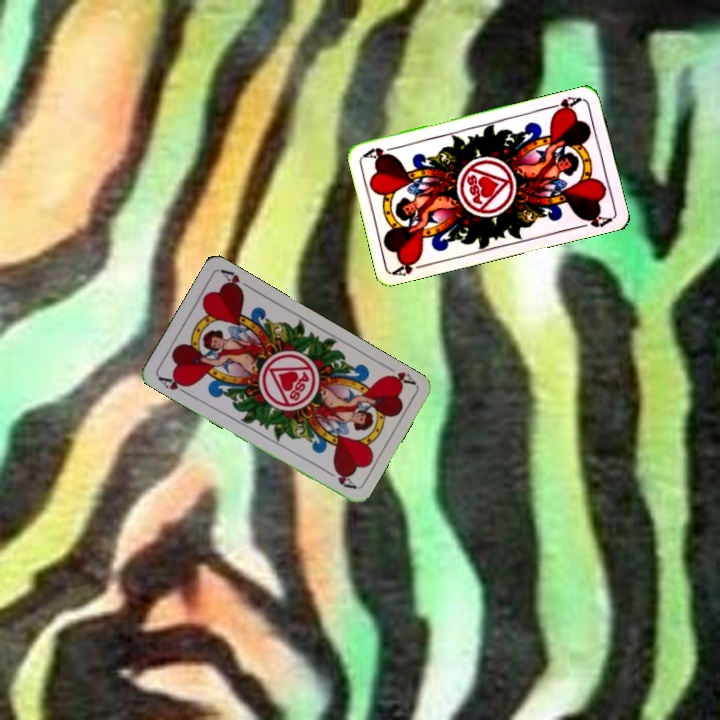HA: (380, 361, 418, 389), (390, 253, 430, 279), (544, 92, 584, 117), (154, 372, 192, 398)
